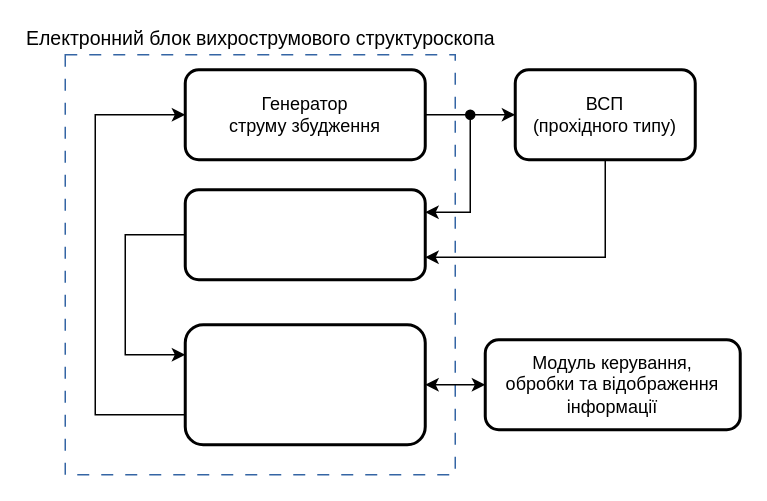
Some shapes in this 767 by 501 pixel diagram are drawn without their labels. Here are the shapes that lost their labels. From the top down, the centre of each, then its label:
At [304,234]: "Модуль вимірювання параметрів сигналу".
At [304,384]: "Модуль первинної обробки сигналу та узгодження інтерфейсів".
